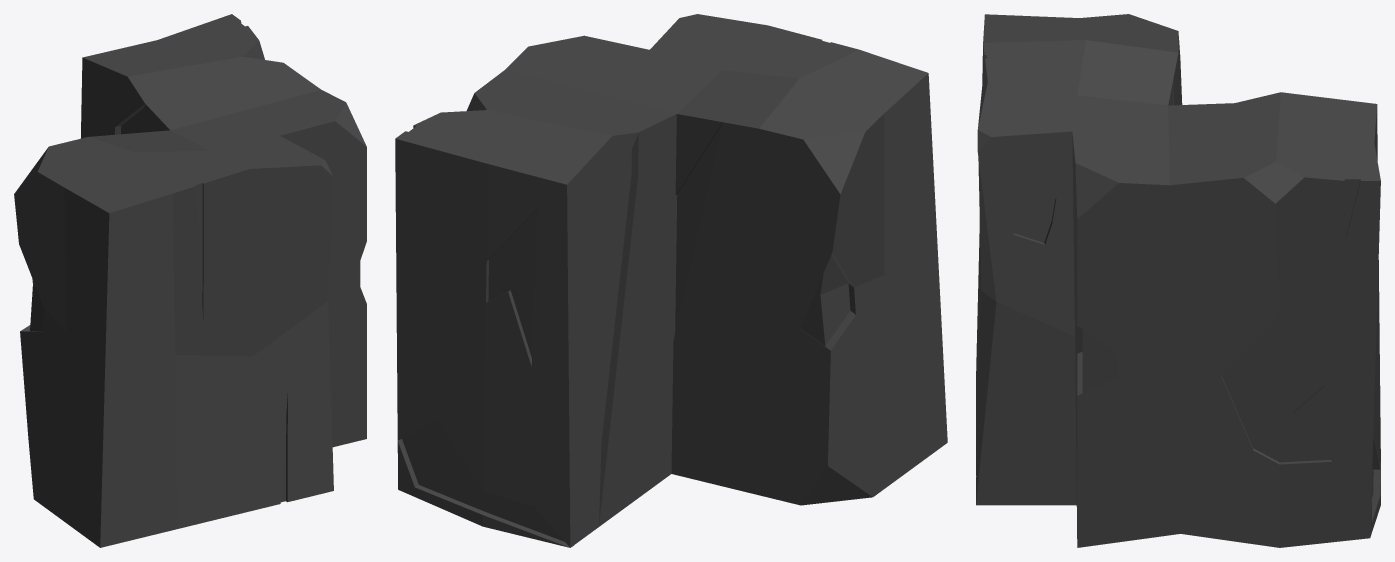
File: rock_7a.fbx
3 renders of one model, left to right at view 1: azimuth 30°, elevation 25°; view 2: azimuth 150°, elevation 25°; view 3: azimuth 270°, elevation 25°, orthographic. The views are drawn at different scales.
Parts seen in each view (by area): view 1: rock_7a; view 2: rock_7a; view 3: rock_7a.
Part boxes in pixels (left/top/right/bottom): rock_7a: left=14, top=14, right=366, bottom=547; rock_7a: left=395, top=14, right=947, bottom=547; rock_7a: left=976, top=14, right=1380, bottom=547.
Bounding box in the file's own units: 927 × 958 × 920.
